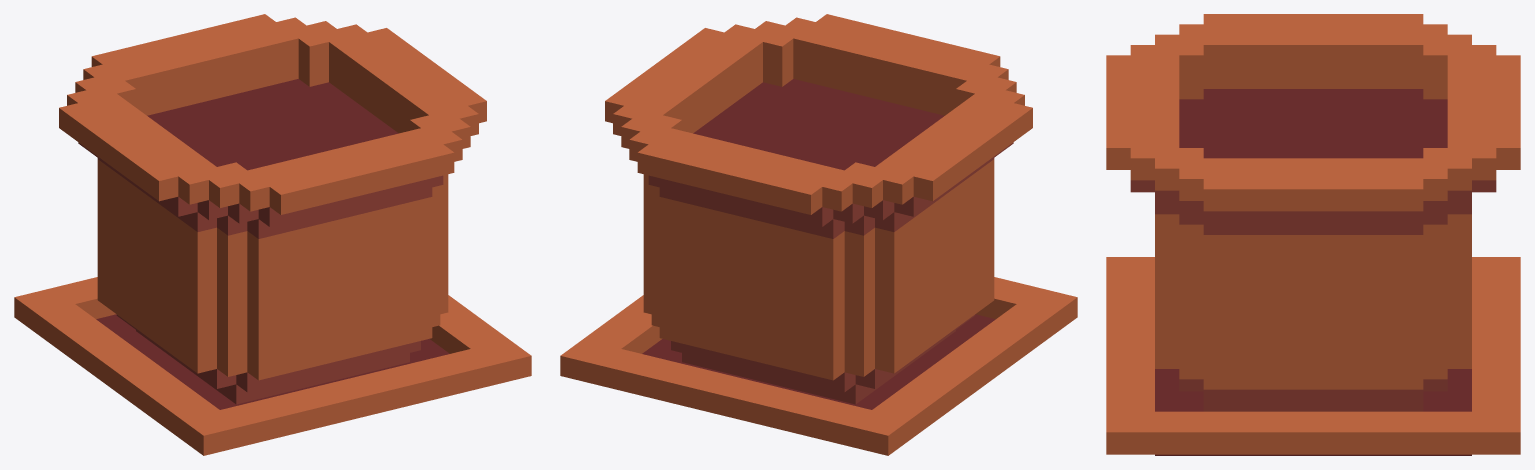
The model's file is VoxelPot1.glb.
3 views of the same model, side by side, from view 1: azimuth 30°, elevation 25°; view 2: azimuth 150°, elevation 25°; view 3: azimuth 270°, elevation 25° (orthographic). The views are drawn at different scales.
Parts seen in each view (by area): view 1: Pot, Plate; view 2: Pot, Plate; view 3: Pot, Plate.
Boxes of the visible parts, x1,y1,x2,y2 form: Pot: (59,14,486,404); Plate: (14,277,531,455); Pot: (605,14,1032,404); Plate: (560,277,1077,455); Pot: (1106,14,1520,411); Plate: (1106,257,1520,455).
Bounding box in the file's own units: 0.17 × 0.13 × 0.17.
2 materials, 2 textured.
